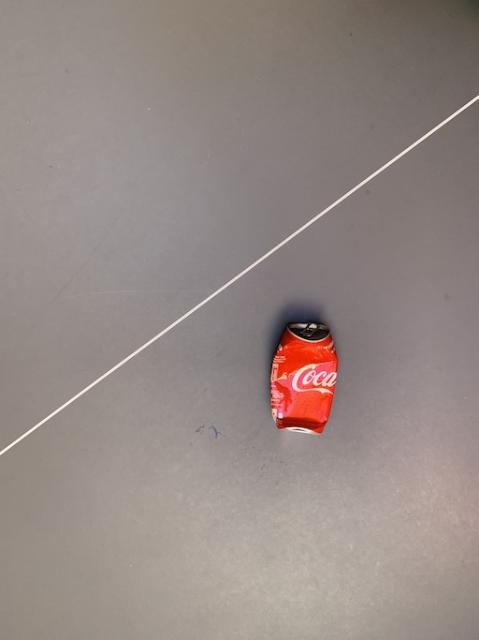metal: (270, 321, 336, 432)
